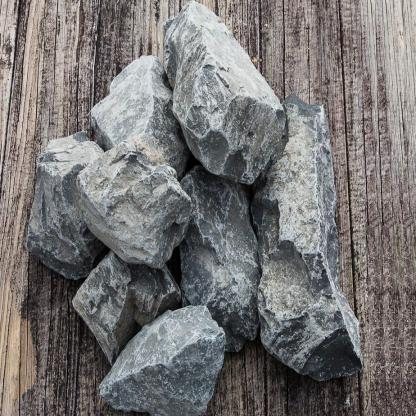Igneous_Basalt: (255, 101, 370, 378), (161, 2, 287, 170), (92, 297, 229, 415), (73, 140, 197, 270), (74, 248, 135, 358)
